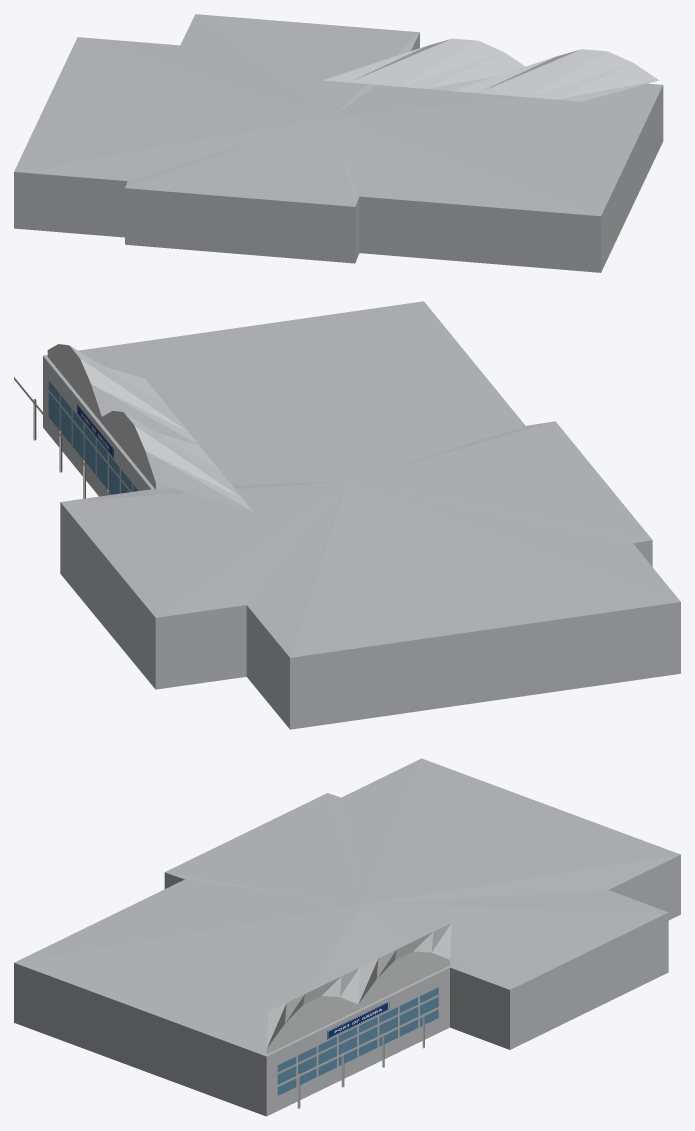
File: ora_cruise.glb
3 renders of one model, top to bottom at view 1: azimuth 30°, elevation 25°; view 2: azimuth 150°, elevation 25°; view 3: azimuth 270°, elevation 25°, orthographic. The views are drawn at different scales.
Parts seen in each view (by area): view 1: cruise_lod0; view 2: cruise_lod0; view 3: cruise_lod0.
Part boxes in pixels (<box>): cruise_lod0: <box>14,14,663,272</box>; cruise_lod0: <box>14,301,680,729</box>; cruise_lod0: <box>14,758,680,1116</box>.
Size of what is drawn, in the model's own units: 64.5 by 8.97 by 58.9.
Materials: 2 (1 with a texture image).
